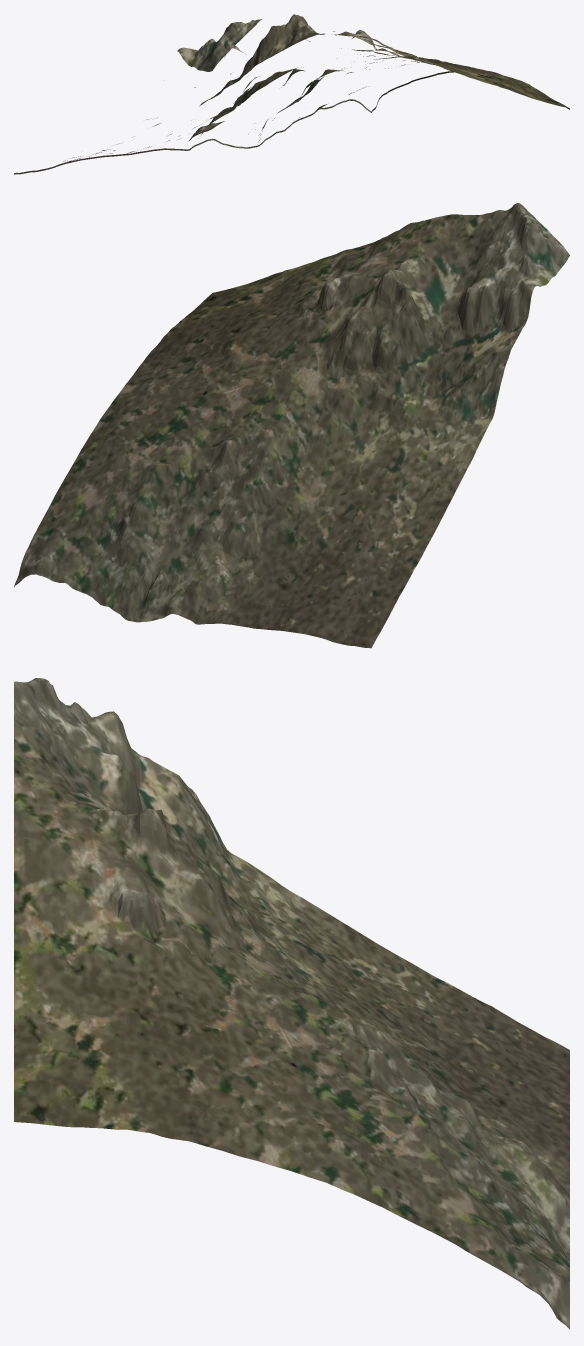
3 renders of one model, top to bottom at view 1: azimuth 30°, elevation 25°; view 2: azimuth 150°, elevation 25°; view 3: azimuth 270°, elevation 25°, orthographic. The views are drawn at different scales.
Size of the model in its own units: 250 by 214 by 241.
1 material, 1 textured.
